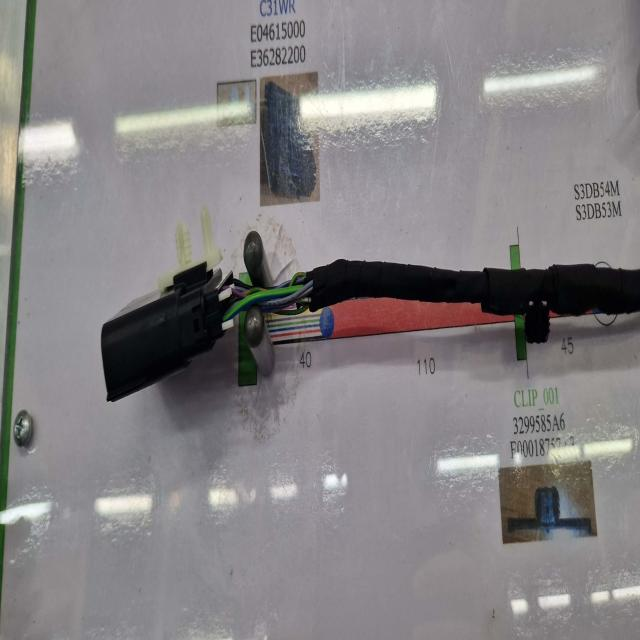Clip: (503, 319, 528, 361)
Connector: (100, 266, 224, 400)
Gape: (233, 271, 322, 329)
MHEV_N11_Cable: (301, 260, 640, 346)
